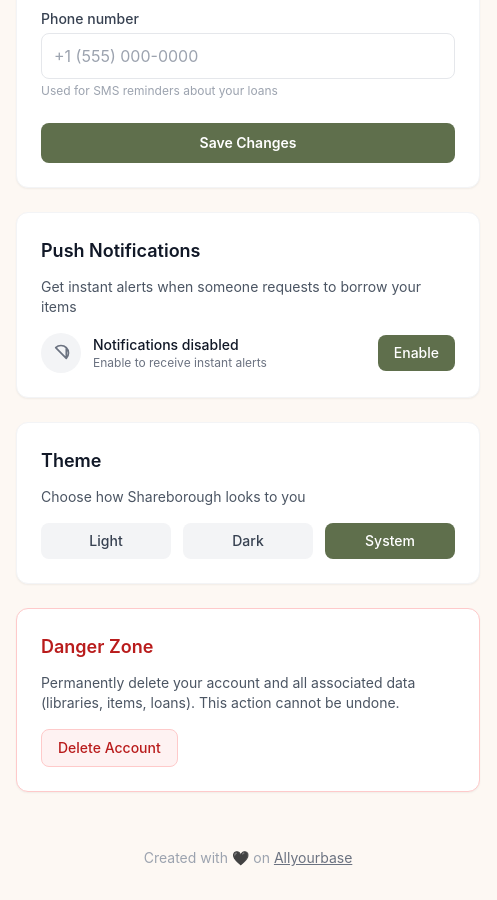
Test: Settings › Delete My Account button is disabled until email matches
(page scrolled)
Expected: the heading "Danger Zone" is shown, [41, 636, 153, 657]
Click the button "Delete Account".
click(109, 748)  # box [41, 729, 178, 767]
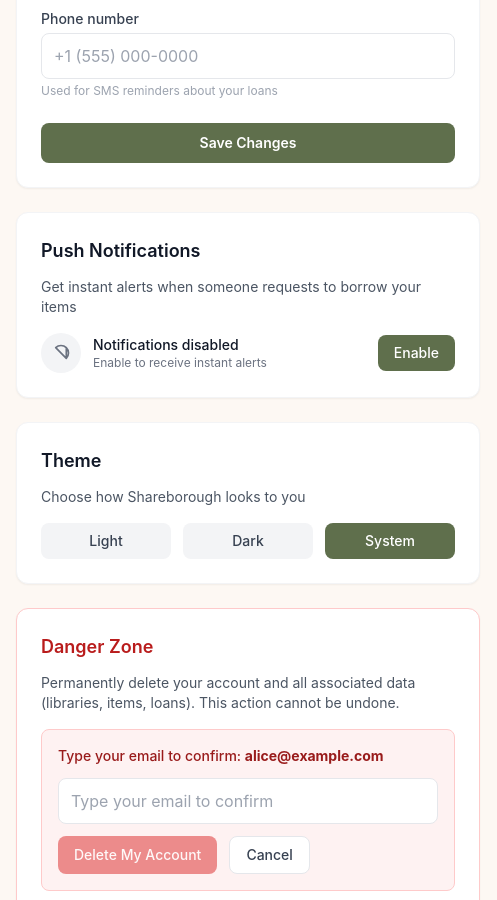
Result: the button "Delete My Account" is disabled at [58, 836, 217, 874]
# Type wrong email
Type "wrong@example.com" into the field named "Confirm email for deletion".
click(248, 801); type("wrong@example.com")  # box [58, 778, 438, 824]
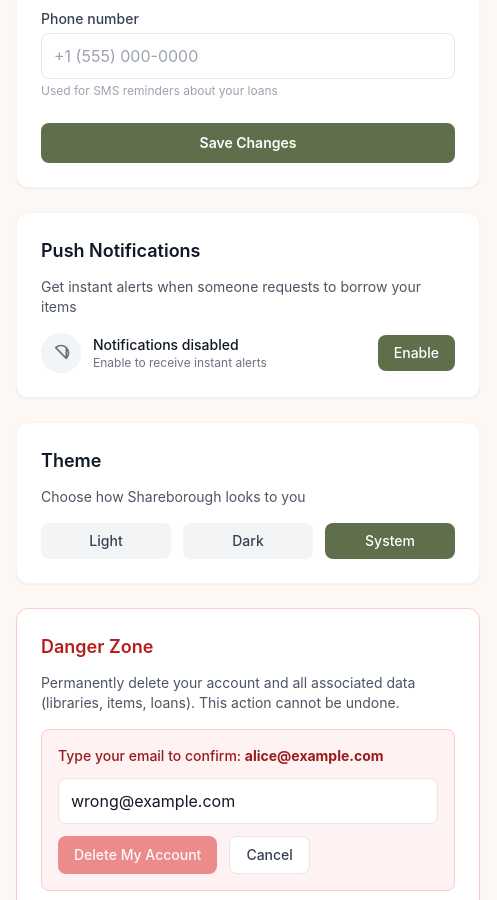
Result: the button "Delete My Account" is disabled at [58, 836, 217, 874]
# Type correct email
Replace the text in the field named "Confirm email for deletion" with "alice@example.com" at (248, 801), box [58, 778, 438, 824]
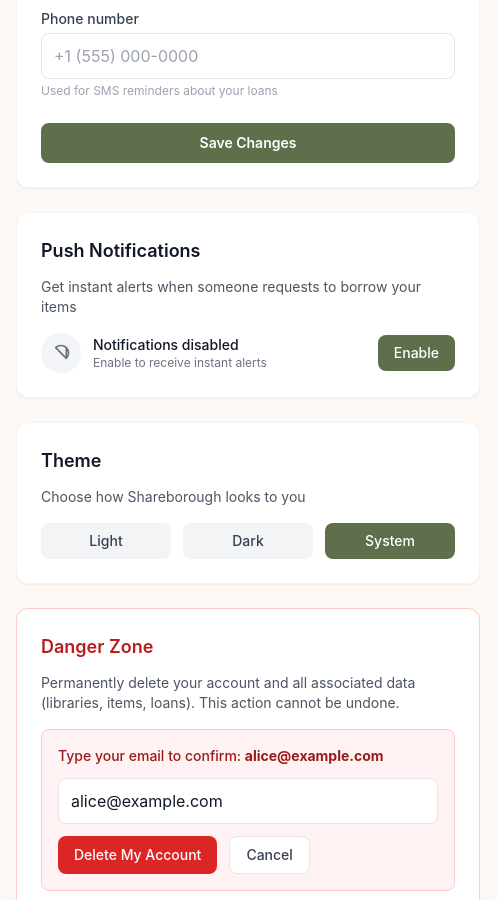
Result: the button "Delete My Account" is enabled at [58, 836, 217, 874]
